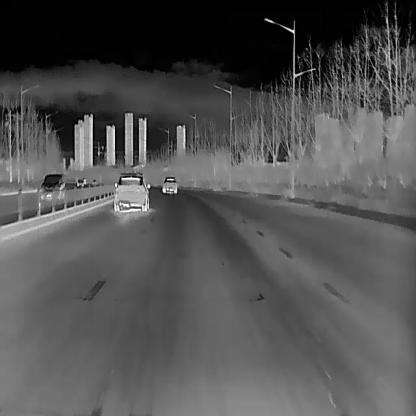car: (113, 171, 150, 211), (37, 172, 66, 202), (161, 175, 177, 193), (76, 177, 83, 187)
